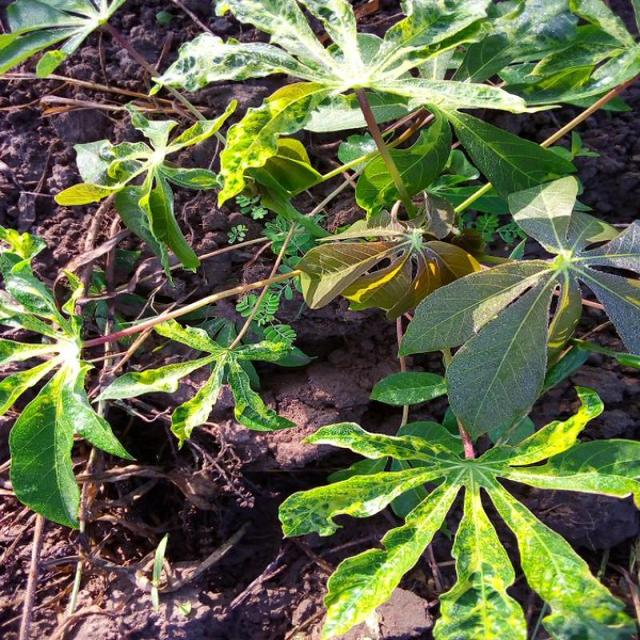cassava leaf: (277, 381, 638, 638), (443, 269, 555, 445)
